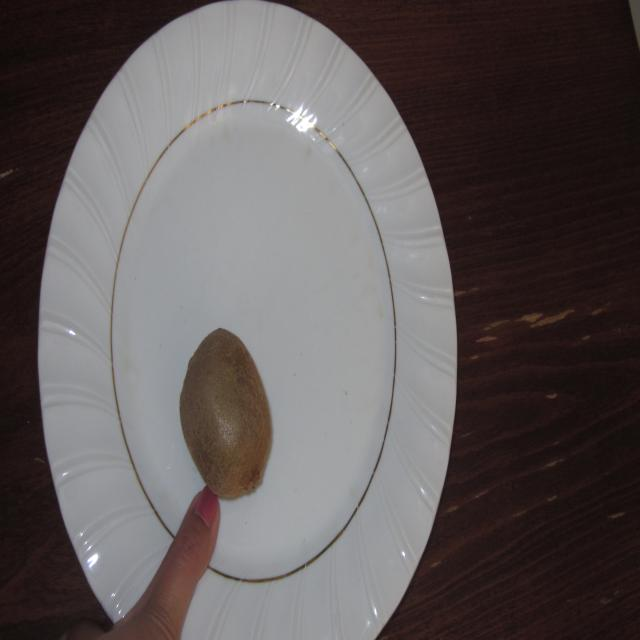kiwi: (178, 324, 274, 501)
